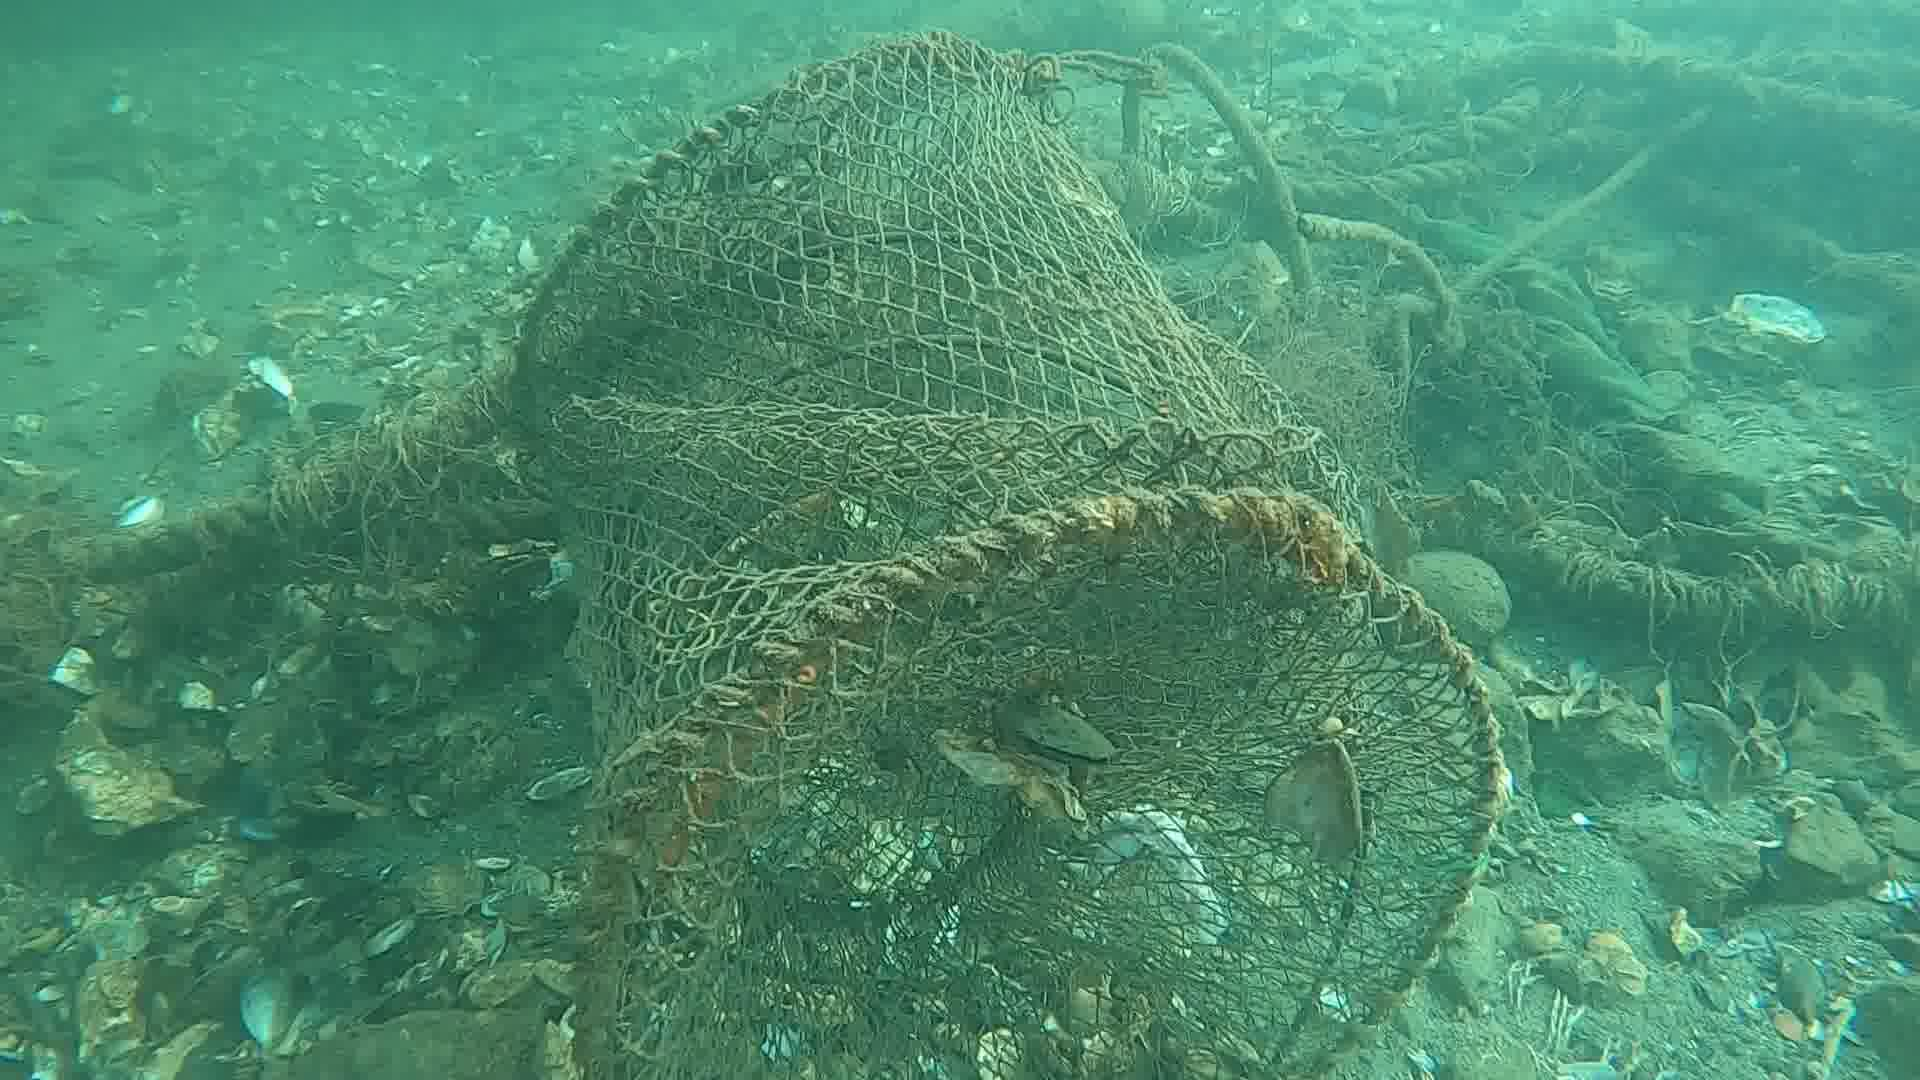bundle of ropes: (1286, 73, 1538, 210)
rope: (44, 491, 266, 582)
spring fish trap: (504, 28, 1510, 1080)
